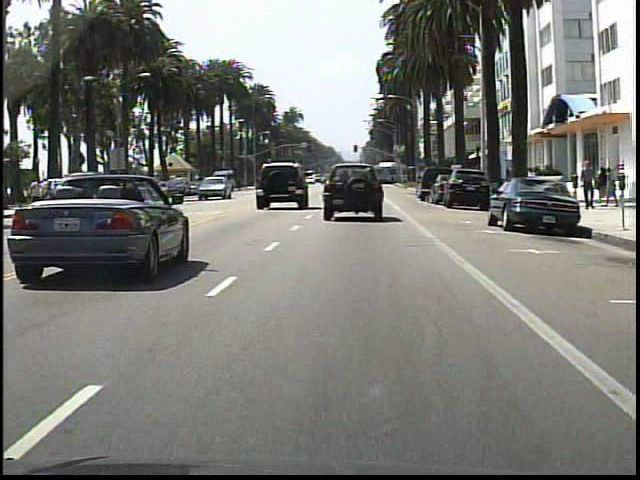person: (576, 155, 599, 213)
